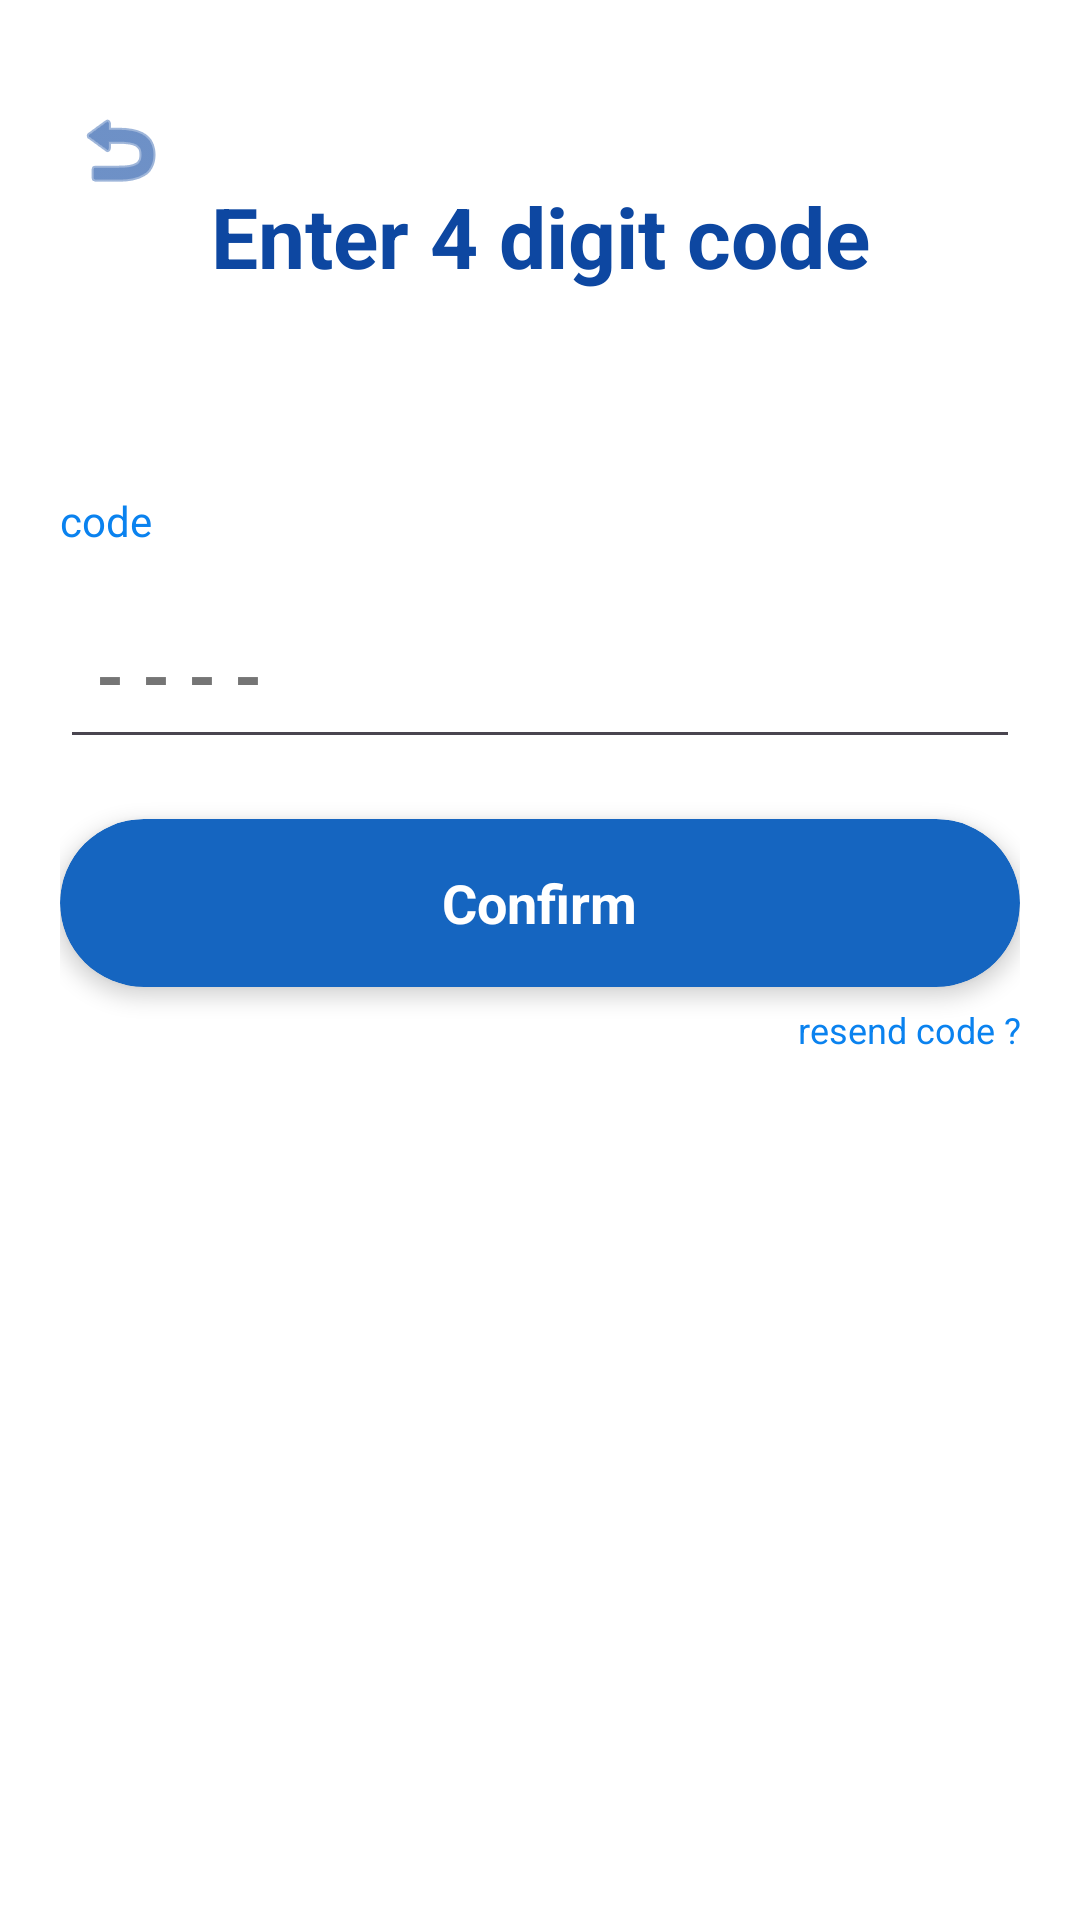

Named icons in this screenshot (1080px x 1920px) and their centers, [x,y]:
Back: [121,150]
